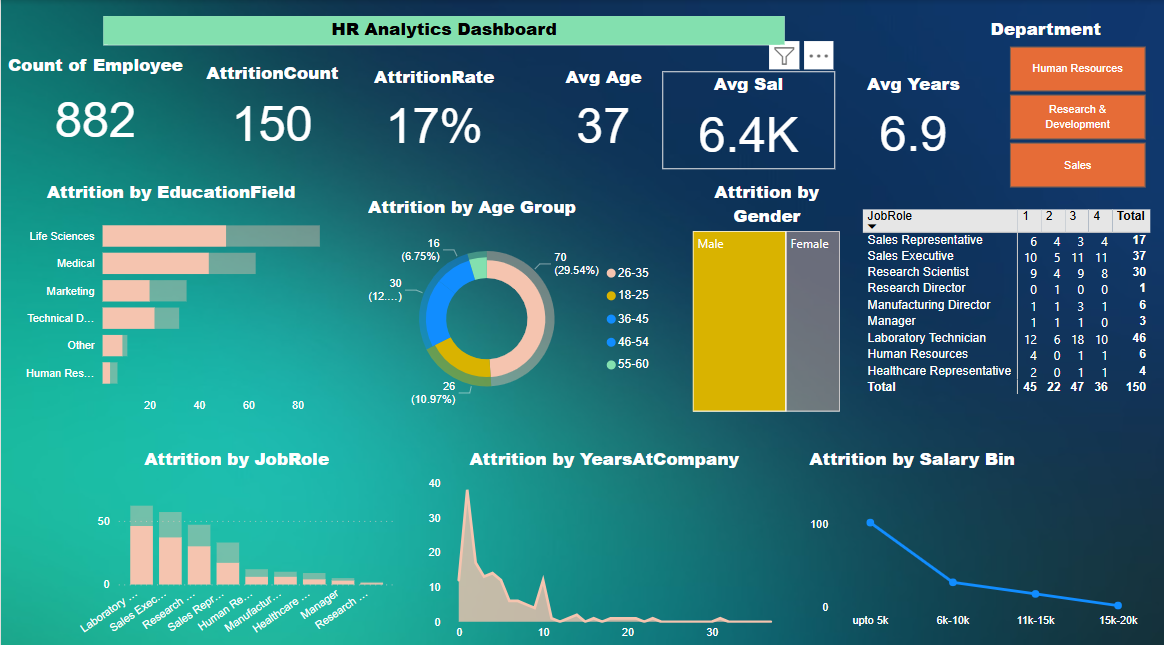

The dashboard page shown, as its layout file describes it:
{"tool":"powerbi","page":{"name":"Page 1","canvas":[1282,717],"ordinal":0},"visuals":[{"type":"card","title":"Count of Employee","fields":{"Values":["CountNonNull(HR Analytics Data (4).EmployeeNumber)"]},"box":[0,57.7,207.5,115.4],"z":0},{"type":"card","title":"Avg Age","fields":{"Values":["Avg(HR Analytics Data (4).Age)"]},"box":[569,70.1,186.9,103.1],"z":1000},{"type":"card","title":"AttritionCount","fields":{"Values":["Sum(HR Analytics Data (4).AttritionCount)"]},"box":[202,66,192.4,107.2],"z":2000},{"type":"card","title":"AttritionRate","fields":{"Values":["HR Analytics Data (4).AttritionRate"]},"box":[364.2,70.1,224,103.1],"z":3000},{"type":"card","title":"Avg Sal","fields":{"Values":["Avg(HR Analytics Data (4).MonthlyIncome)"]},"box":[727,78.3,189.7,107.2],"z":4000},{"type":"card","title":"Avg Years","fields":{"Values":["Avg(HR Analytics Data (4).YearsAtCompany)"]},"box":[923.6,78.3,159.4,103.1],"z":5000},{"type":"barChart","title":"Attrition by EducationField","fields":{"Category":["HR Analytics Data (4).EducationField"],"Y":["Sum(HR Analytics Data (4).AttritionCount)"]},"box":[11,196.5,351.8,265.3],"z":6000},{"type":"treemap","title":"Attrition by Gender","fields":{"Group":["HR Analytics Data (4).Gender"],"Values":["Sum(HR Analytics Data (4).AttritionCount)"]},"box":[755.9,196.5,171.8,261.1],"z":7000},{"type":"columnChart","title":"Attrition by JobRole","fields":{"Category":["HR Analytics Data (4).JobRole"],"Y":["Sum(HR Analytics Data (4).AttritionCount)"]},"box":[79.7,490.6,358.7,217.1],"z":8000},{"type":"pivotTable","fields":{"Columns":["HR Analytics Data (4).JobSatisfaction"],"Values":["Sum(HR Analytics Data (4).AttritionCount)"],"Rows":["HR Analytics Data (4).JobRole"]},"box":[942.8,225.4,327.1,232.3],"z":9000},{"type":"areaChart","title":"Attrition by YearsAtCompany","fields":{"Category":["HR Analytics Data (4).YearsAtCompany"],"Y":["Sum(HR Analytics Data (4).AttritionCount)"]},"box":[464.5,490.6,397.2,221.3],"z":10000},{"type":"donutChart","title":"Attrition by Age Group","fields":{"Category":["HR Analytics Data (4).Age bin"],"Y":["Sum(HR Analytics Data (4).AttritionCount)"]},"box":[398.6,213,328.5,248.8],"z":11000},{"type":"lineChart","title":"Attrition by Salary Bin","fields":{"Category":["HR Analytics Data (4).Salary Bin"],"Y":["Sum(HR Analytics Data (4).AttritionCount)"]},"box":[883.7,490.6,386.2,207.5],"z":12000},{"type":"slicer","title":"Department","fields":{"Values":["HR Analytics Data (4).Department"]},"box":[1083,17.9,199.3,195.2],"z":13000},{"type":"textbox","title":"HR Analytics Dashboard","box":[112.7,17.9,749,31.6],"z":14000}]}

Visuals, with their boxes in screenshot pixels (x1, y1, x2, y2), scaled from the page's 1282x717 canvas onto the 1164x645 screenshot:
"Count of Employee" card: bbox=[0, 52, 188, 156]
"Avg Age" card: bbox=[517, 63, 686, 156]
"AttritionCount" card: bbox=[183, 59, 358, 156]
"AttritionRate" card: bbox=[331, 63, 534, 156]
"Avg Sal" card: bbox=[660, 70, 832, 167]
"Avg Years" card: bbox=[839, 70, 983, 163]
"Attrition by EducationField" barChart: bbox=[10, 177, 329, 415]
"Attrition by Gender" treemap: bbox=[686, 177, 842, 412]
"Attrition by JobRole" columnChart: bbox=[72, 441, 398, 637]
pivotTable - HR Analytics Data (4).JobSatisfaction x Sum(HR Analytics Data (4).AttritionCount): bbox=[856, 203, 1153, 412]
"Attrition by YearsAtCompany" areaChart: bbox=[422, 441, 782, 640]
"Attrition by Age Group" donutChart: bbox=[362, 192, 660, 415]
"Attrition by Salary Bin" lineChart: bbox=[802, 441, 1153, 628]
"Department" slicer: bbox=[983, 16, 1163, 192]
"HR Analytics Dashboard" textbox: bbox=[102, 16, 782, 45]
